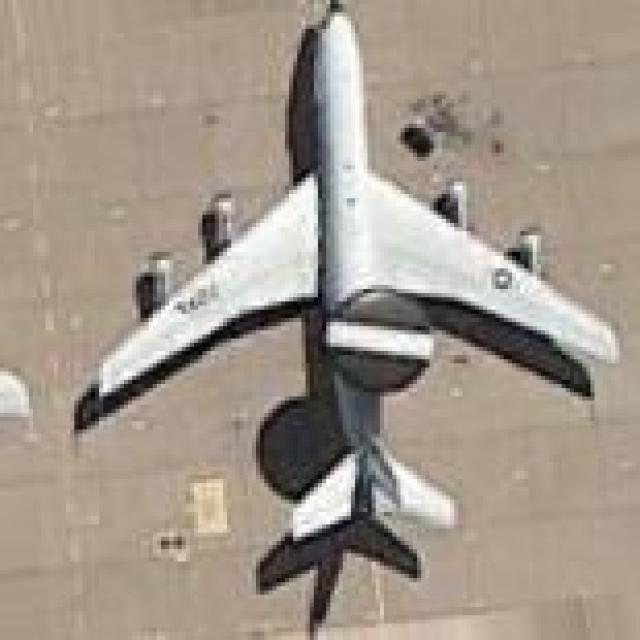E-3_TopDown: (66, 0, 619, 636)
